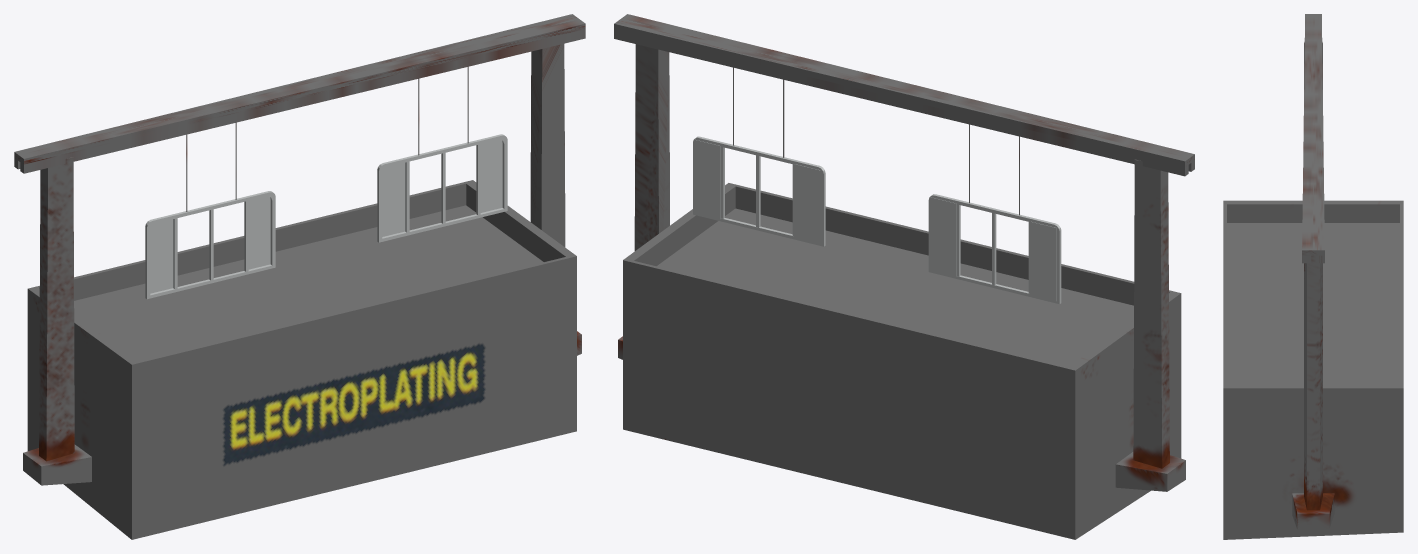
File: electroplating.fbx
3 renders of one model, left to right at view 1: azimuth 30°, elevation 25°; view 2: azimuth 150°, elevation 25°; view 3: azimuth 270°, elevation 25°, orthographic. The views are drawn at different scales.
Visible parts, largest first — view 1: electroplating; view 2: electroplating; view 3: electroplating.
Boxes of the visible parts, x1=… form: electroplating: x1=14, y1=14, x2=585, y2=539; electroplating: x1=614, y1=14, x2=1194, y2=539; electroplating: x1=1223, y1=14, x2=1403, y2=539.
Bounding box in the file's own units: 768 × 474 × 247.
2 materials, 2 textured.
